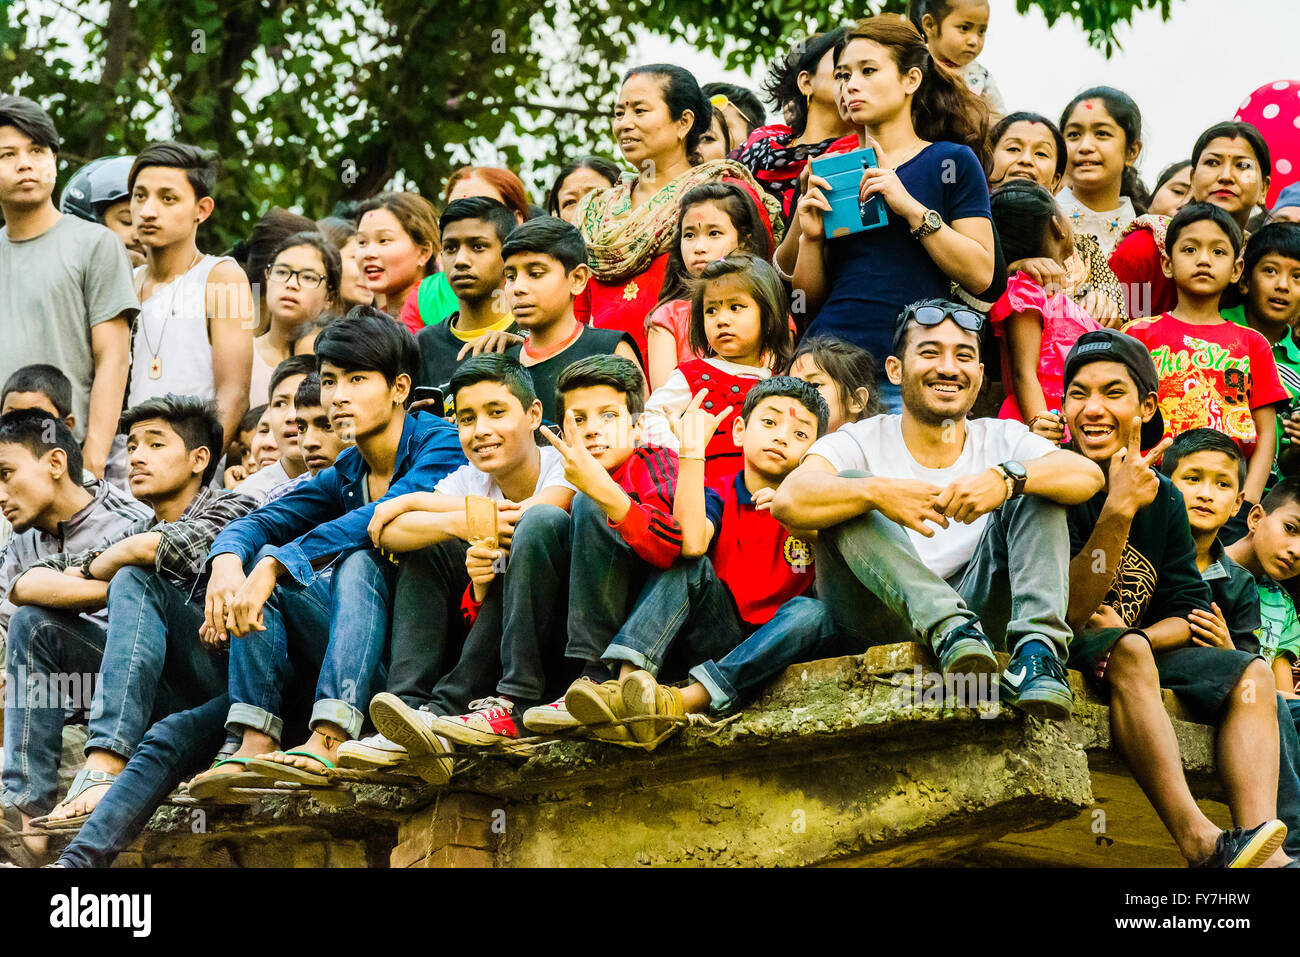human: (759, 289, 1098, 720), (198, 302, 469, 820), (573, 381, 831, 744), (369, 350, 564, 786), (784, 13, 999, 400), (561, 36, 762, 377), (96, 126, 285, 463), (1, 82, 148, 507), (1110, 202, 1300, 524), (640, 174, 804, 407)
